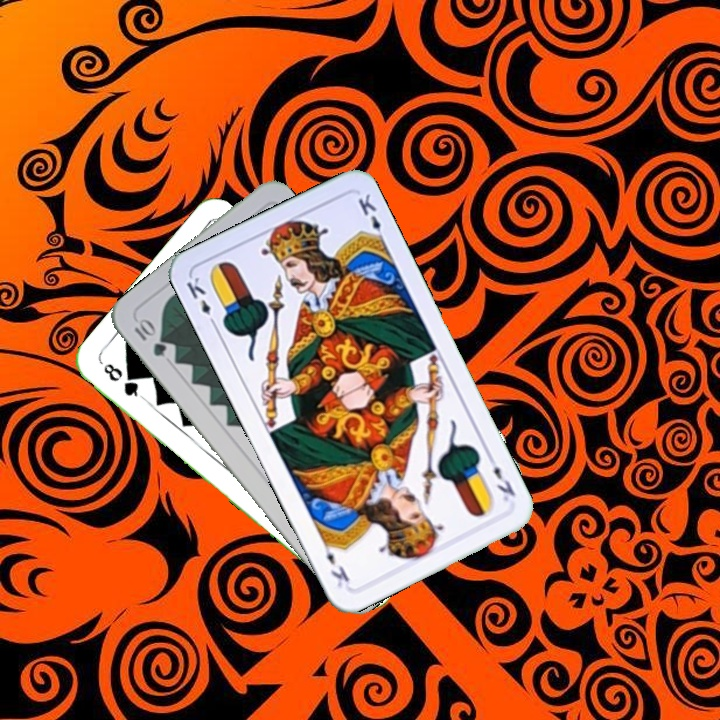EK: (182, 272, 220, 330), (483, 451, 518, 505)
G10: (130, 315, 169, 360)
G8: (99, 359, 146, 402)
